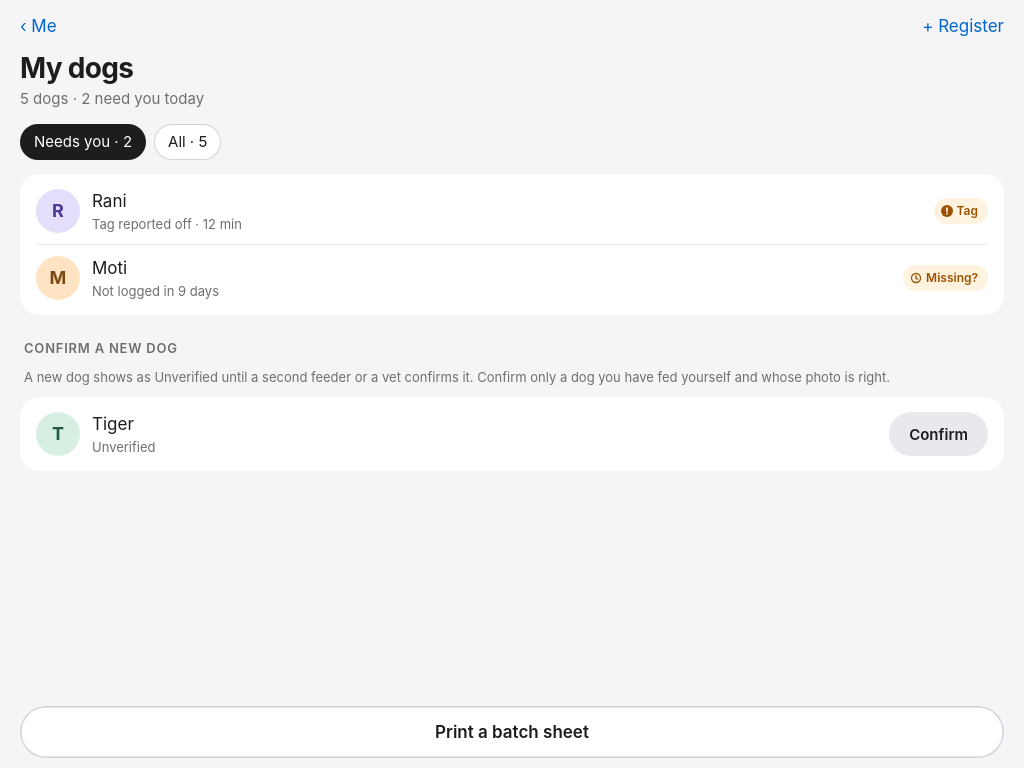
N4 My dogs › explains a 403 on confirm
Click the button with aria-label "Confirm Tiger" at (939, 434), box [889, 412, 988, 456]
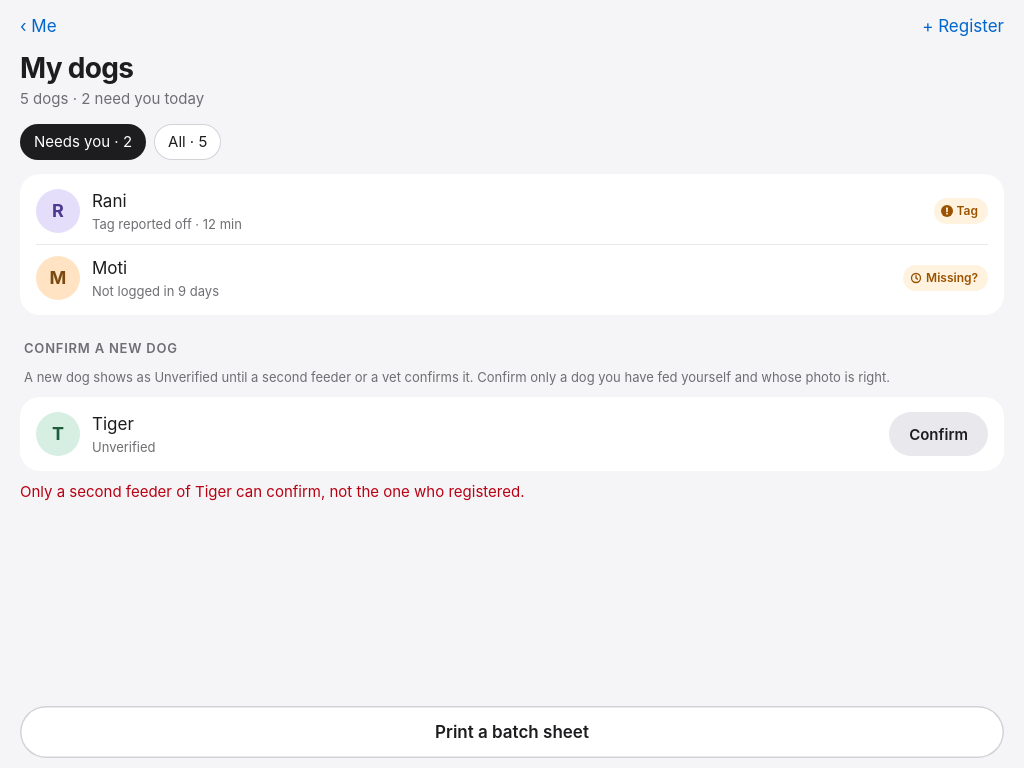
Now the message reads "Only a second feeder of Tiger can confirm, not the one who registered.", box [20, 482, 524, 501]
